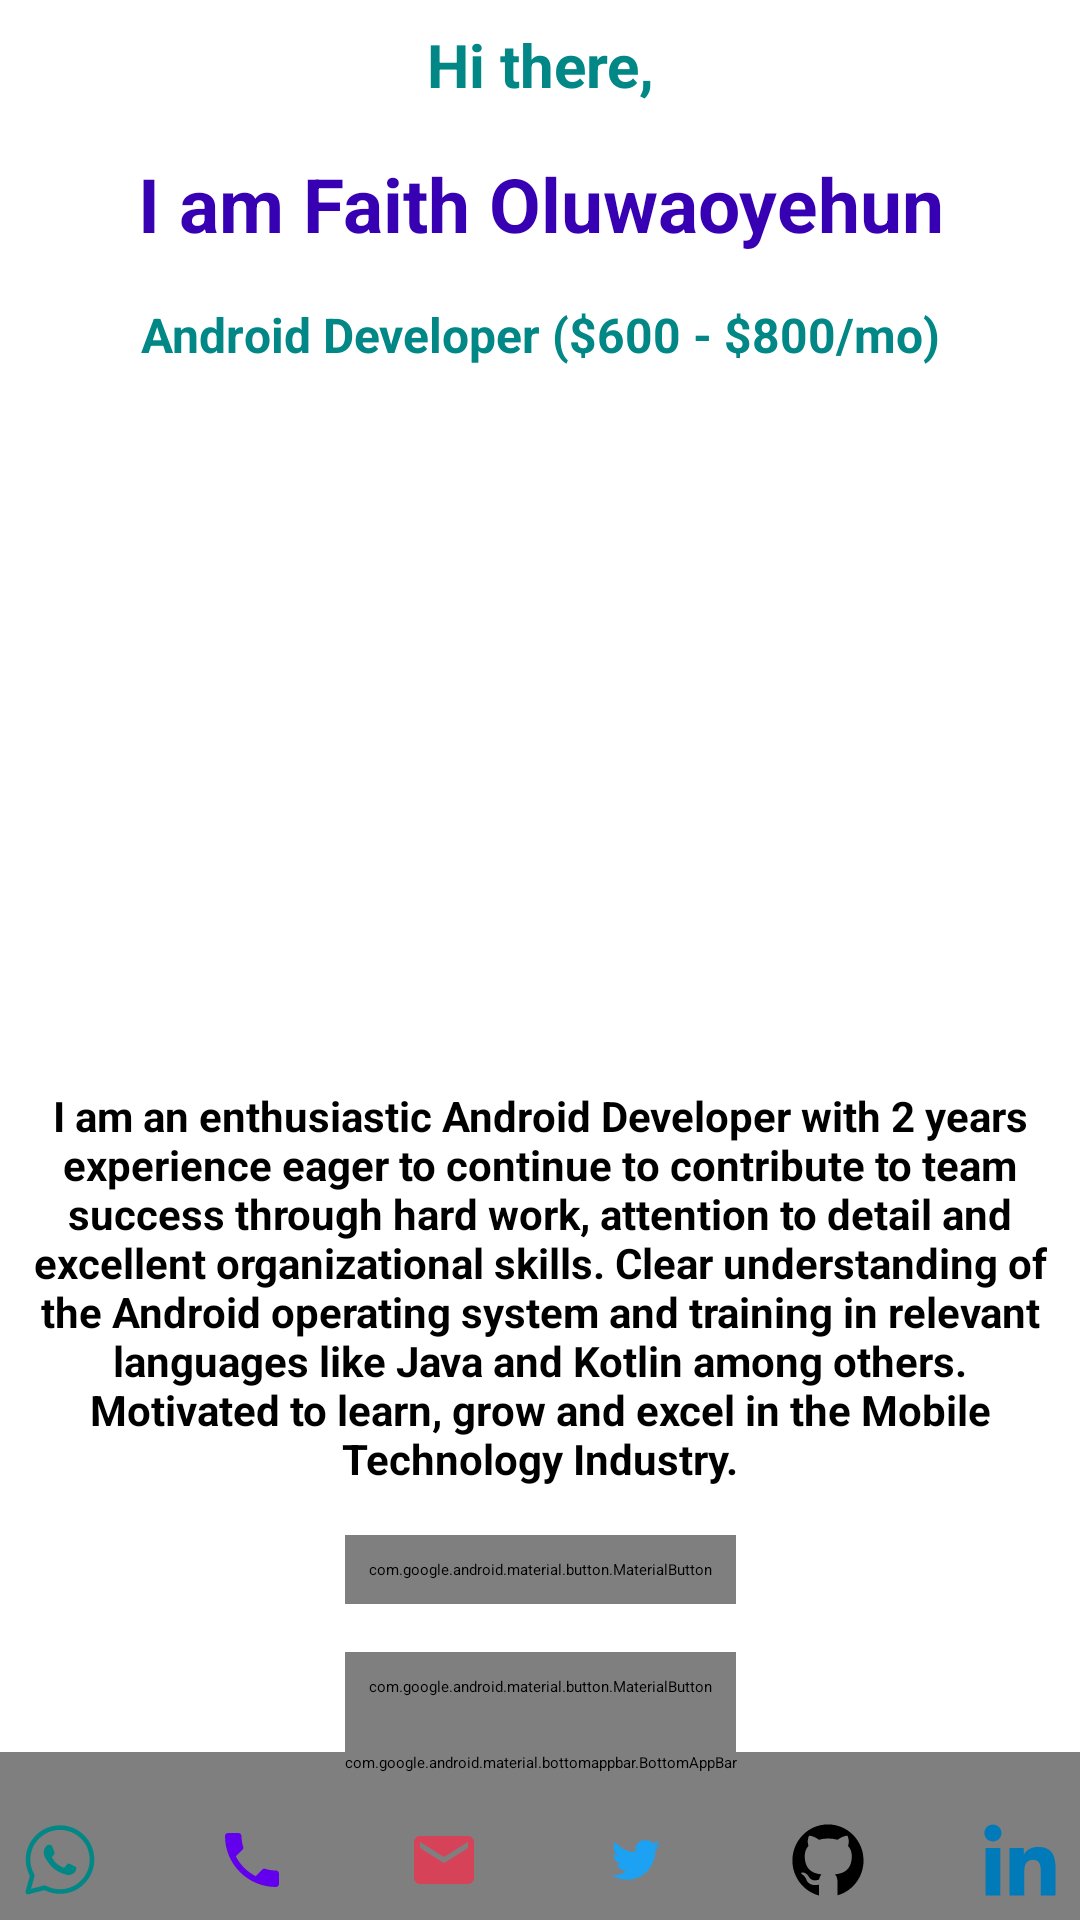

Icon click points for this 1080×1920 phone screenshot, format [x,y]:
email: [444,1860]
phone: [252,1860]
